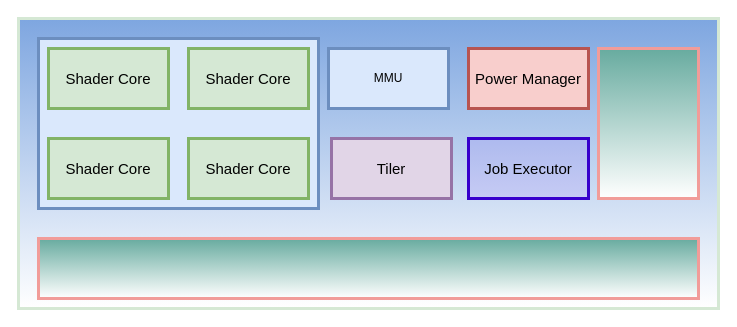
Some shapes in this 737 by 327 pixel diagram are drawn without their labels. Here are the shapes that lost their labels. From the top down, the centre of each, then its label:
At point 648,123: "Fixed Function Operator".
At point 368,268: "Cache".
